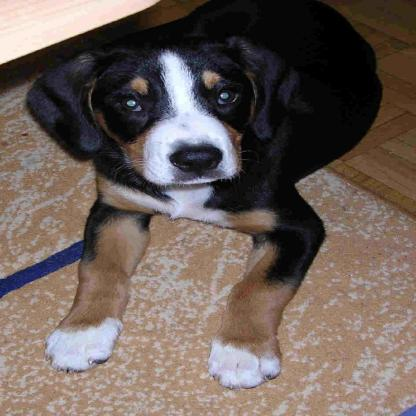EntleBucher: (24, 11, 381, 390)
